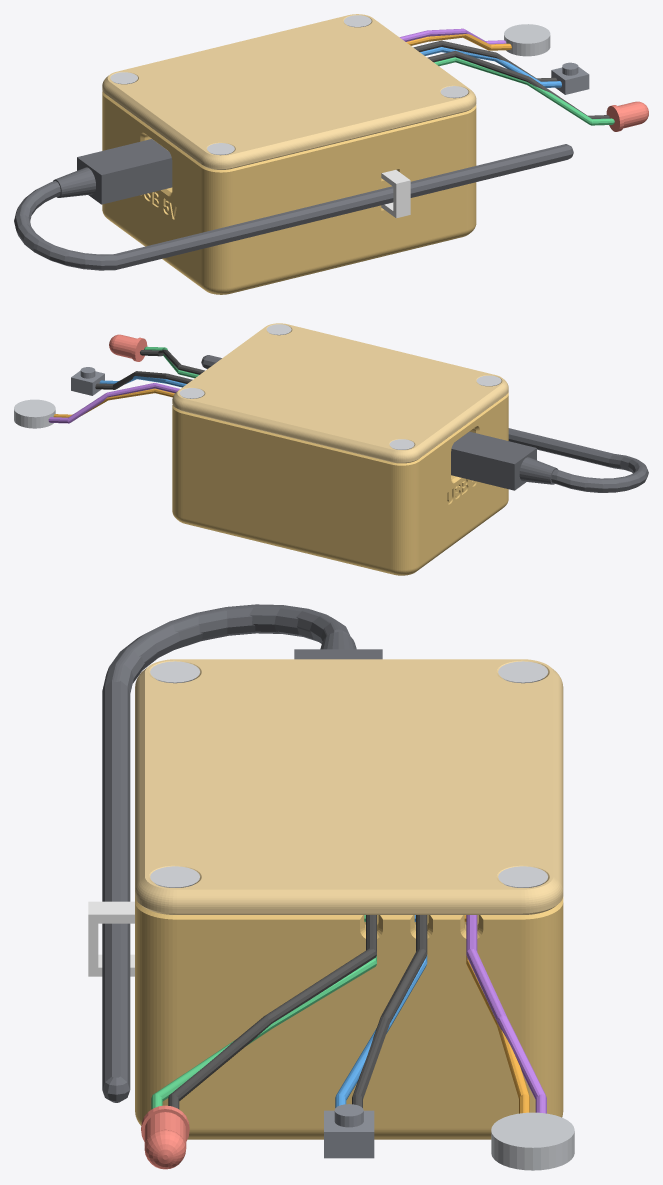
The model's file is assembly-compact-38pin.glb.
3 views of the same model, one above another, from view 1: azimuth 30°, elevation 25°; view 2: azimuth 150°, elevation 25°; view 3: azimuth 270°, elevation 25° (orthographic). The views are drawn at different scales.
Visible parts, largest first — view 1: Box body (printed), Lid (printed), USB cable from the power bank, GND (black), Coin vibration motor, 4 x M3x10 countersunk lid screws, LED signal, GPIO 25 (green), Cable tie (strain relief), LED, Paw push button, Paw button, GPIO 27 (blue), Motor +, after R3 (orange) (+1 smaller); view 2: Box body (printed), Lid (printed), USB cable from the power bank, Coin vibration motor, GND (black), 4 x M3x10 countersunk lid screws, Motor -, to collector (purple), LED, Paw push button, Motor +, after R3 (orange); view 3: Lid (printed), Box body (printed), USB cable from the power bank, GND (black), Coin vibration motor, 4 x M3x10 countersunk lid screws, Paw push button, LED, Motor -, to collector (purple), Cable tie (strain relief), LED signal, GPIO 25 (green), Motor +, after R3 (orange) (+1 smaller).
Part boxes in pixels (x1=…): Box body (printed): x1=102, y1=91, x2=476, y2=294; Lid (printed): x1=102, y1=14, x2=476, y2=169; USB cable from the power bank: x1=14, y1=139, x2=573, y2=270; GND (black): x1=413, y1=40, x2=609, y2=118; Coin vibration motor: x1=504, y1=24, x2=550, y2=56; 4 x M3x10 countersunk lid screws: x1=110, y1=15, x2=468, y2=155; LED signal, GPIO 25 (green): x1=434, y1=57, x2=614, y2=125; Cable tie (strain relief): x1=381, y1=170, x2=410, y2=218; LED: x1=606, y1=101, x2=648, y2=131; Paw push button: x1=551, y1=62, x2=589, y2=94; Paw button, GPIO 27 (blue): x1=420, y1=47, x2=561, y2=87; Motor +, after R3 (orange): x1=406, y1=34, x2=511, y2=50; Box body (printed): x1=172, y1=392, x2=508, y2=575; Lid (printed): x1=172, y1=323, x2=508, y2=463; USB cable from the power bank: x1=201, y1=355, x2=648, y2=492; Coin vibration motor: x1=14, y1=399, x2=55, y2=428; GND (black): x1=95, y1=349, x2=204, y2=389; 4 x M3x10 countersunk lid screws: x1=179, y1=324, x2=501, y2=449; Motor -, to collector (purple): x1=48, y1=383, x2=179, y2=423; LED: x1=109, y1=334, x2=147, y2=361; Paw push button: x1=71, y1=367, x2=104, y2=395; Motor +, after R3 (orange): x1=53, y1=388, x2=174, y2=417; Lid (printed): x1=135, y1=659, x2=563, y2=914; Box body (printed): x1=135, y1=897, x2=563, y2=1139; USB cable from the power bank: x1=102, y1=604, x2=382, y2=1102; GND (black): x1=168, y1=915, x2=427, y2=1109; Coin vibration motor: x1=491, y1=1112, x2=574, y2=1170; 4 x M3x10 countersunk lid screws: x1=150, y1=661, x2=547, y2=887; Paw push button: x1=324, y1=1104, x2=374, y2=1158; LED: x1=141, y1=1105, x2=189, y2=1169; Motor -, to collector (purple): x1=466, y1=915, x2=546, y2=1113; Cable tie (strain relief): x1=88, y1=901, x2=134, y2=976; LED signal, GPIO 25 (green): x1=151, y1=915, x2=376, y2=1109; Motor +, after R3 (orange): x1=464, y1=915, x2=529, y2=1113.
Bounding box in the file's own units: 0.1514 × 0.033 × 0.0582.
